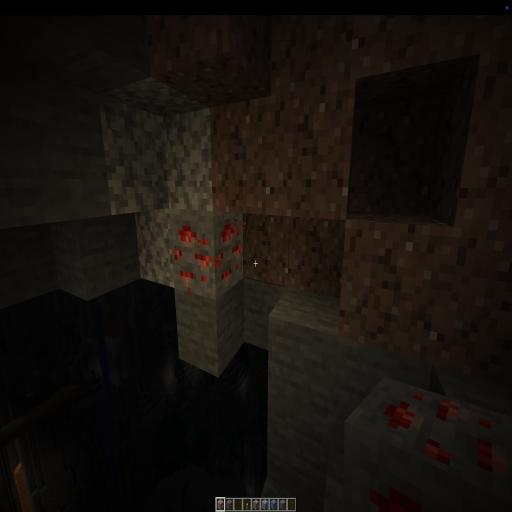redstone ore: (166, 206, 252, 298)
